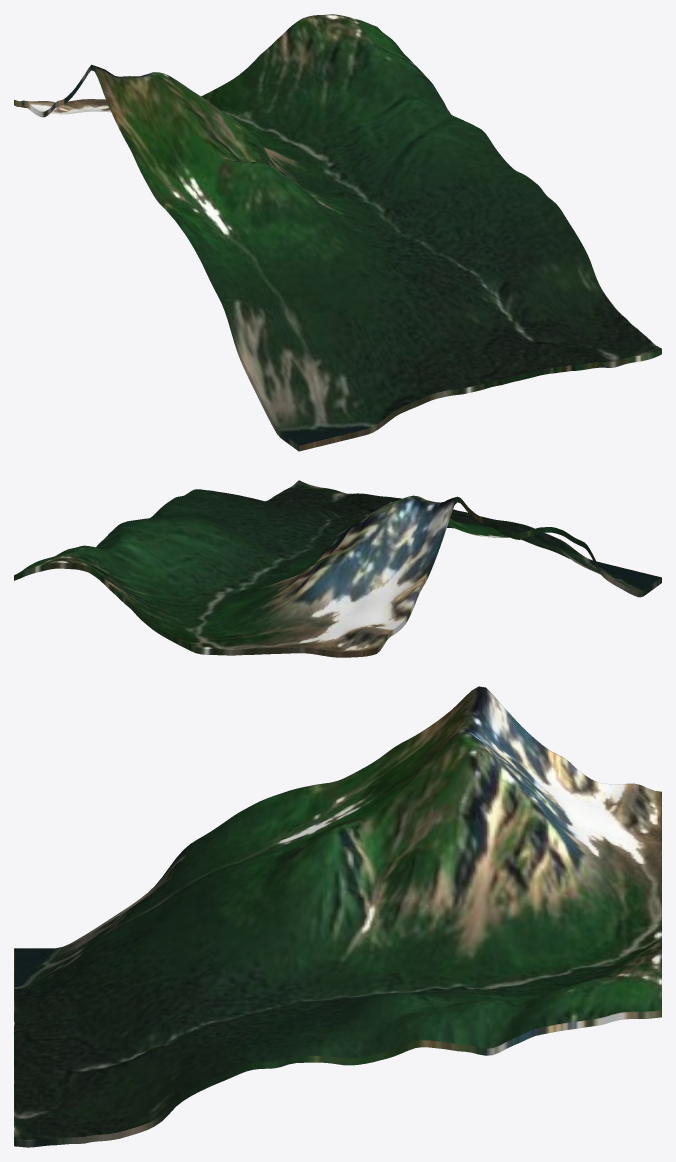
3 renders of one model, top to bottom at view 1: azimuth 30°, elevation 25°; view 2: azimuth 150°, elevation 25°; view 3: azimuth 270°, elevation 25°, orthographic. The views are drawn at different scales.
Parts seen in each view (by area): view 1: tile; view 2: tile; view 3: tile.
Part boxes in pixels (x1,y1,x2,y2): tile: (14,14,661,451); tile: (14,480,661,657); tile: (14,686,661,1147).
Bounding box in the file's own units: 2025 × 1258 × 2752.
Materials: 1 (1 with a texture image).
